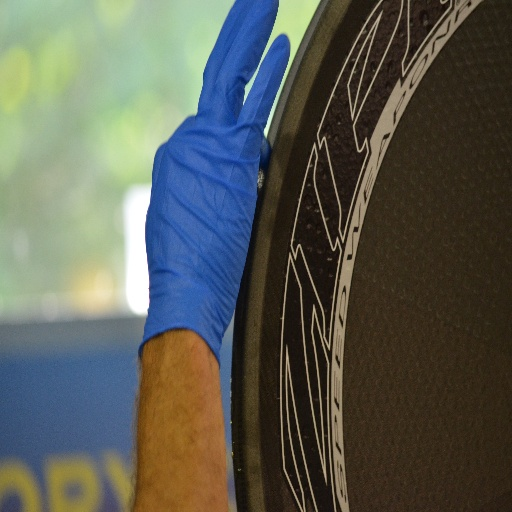hand: (144, 0, 290, 323)
